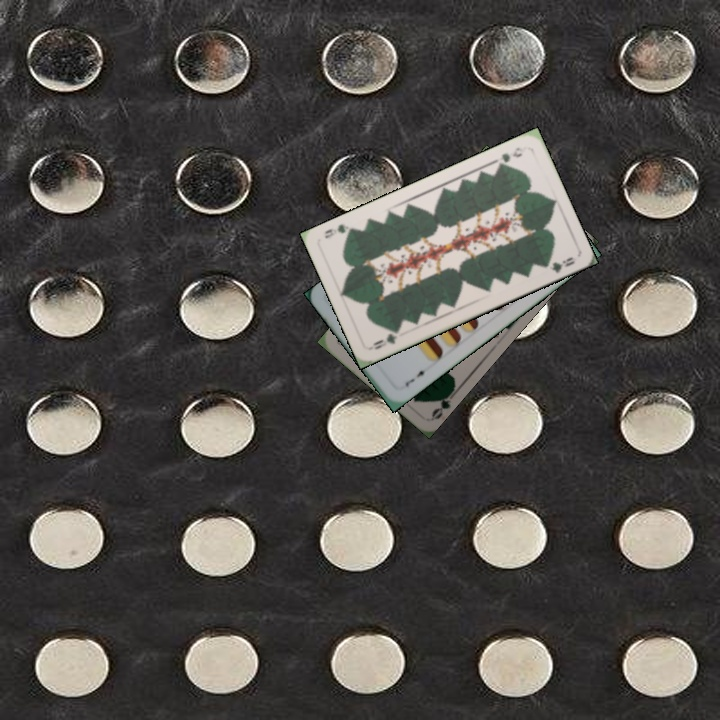E7: (401, 365, 431, 389)
G9: (490, 142, 529, 170), (368, 325, 402, 352)
GO: (427, 386, 459, 422)
